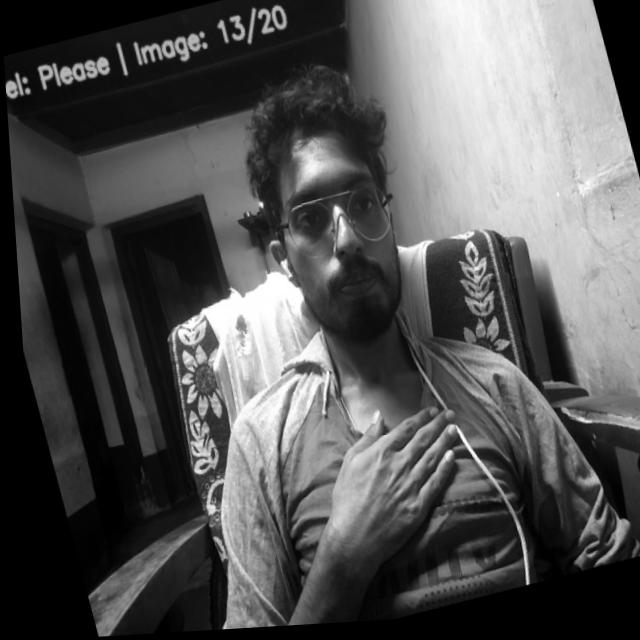Please: (290, 393, 485, 584)
